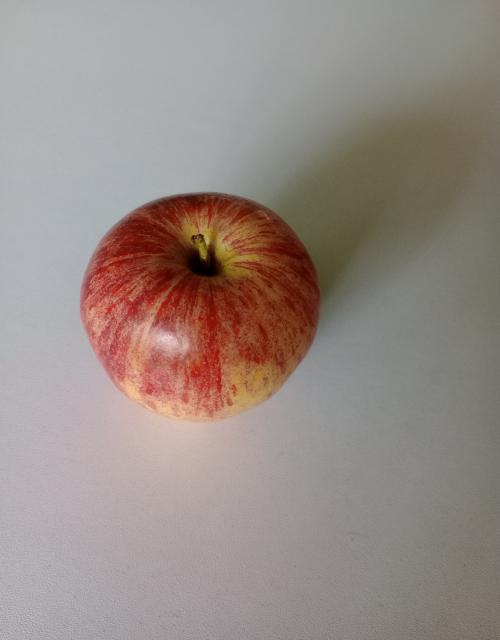Manzana: (74, 168, 425, 495)
